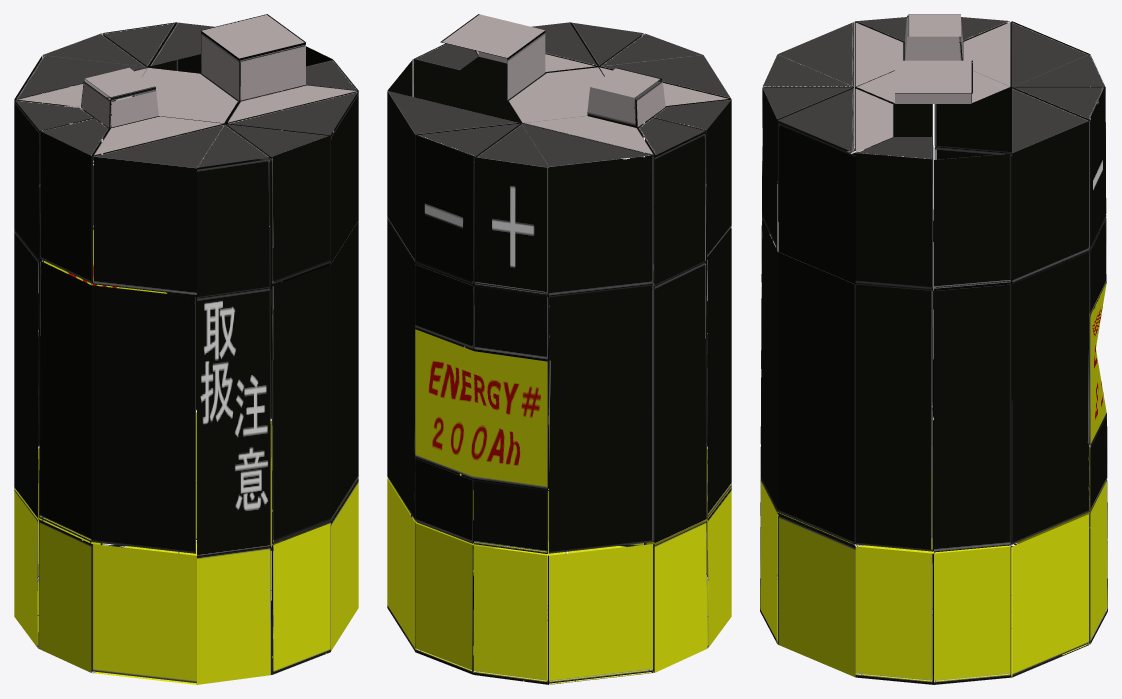
The model's file is Battery_small.fbx.
3 renders of one model, left to right at view 1: azimuth 30°, elevation 25°; view 2: azimuth 150°, elevation 25°; view 3: azimuth 270°, elevation 25°, orthographic.
Visible parts, largest first — view 1: 立方体; view 2: 立方体; view 3: 立方体.
Part boxes in pixels (left/top/right/bottom): 立方体: left=14, top=14, right=358, bottom=684; 立方体: left=387, top=14, right=731, bottom=684; 立方体: left=760, top=14, right=1107, bottom=684.
Bounding box in the file's own units: 111 × 200 × 111.
